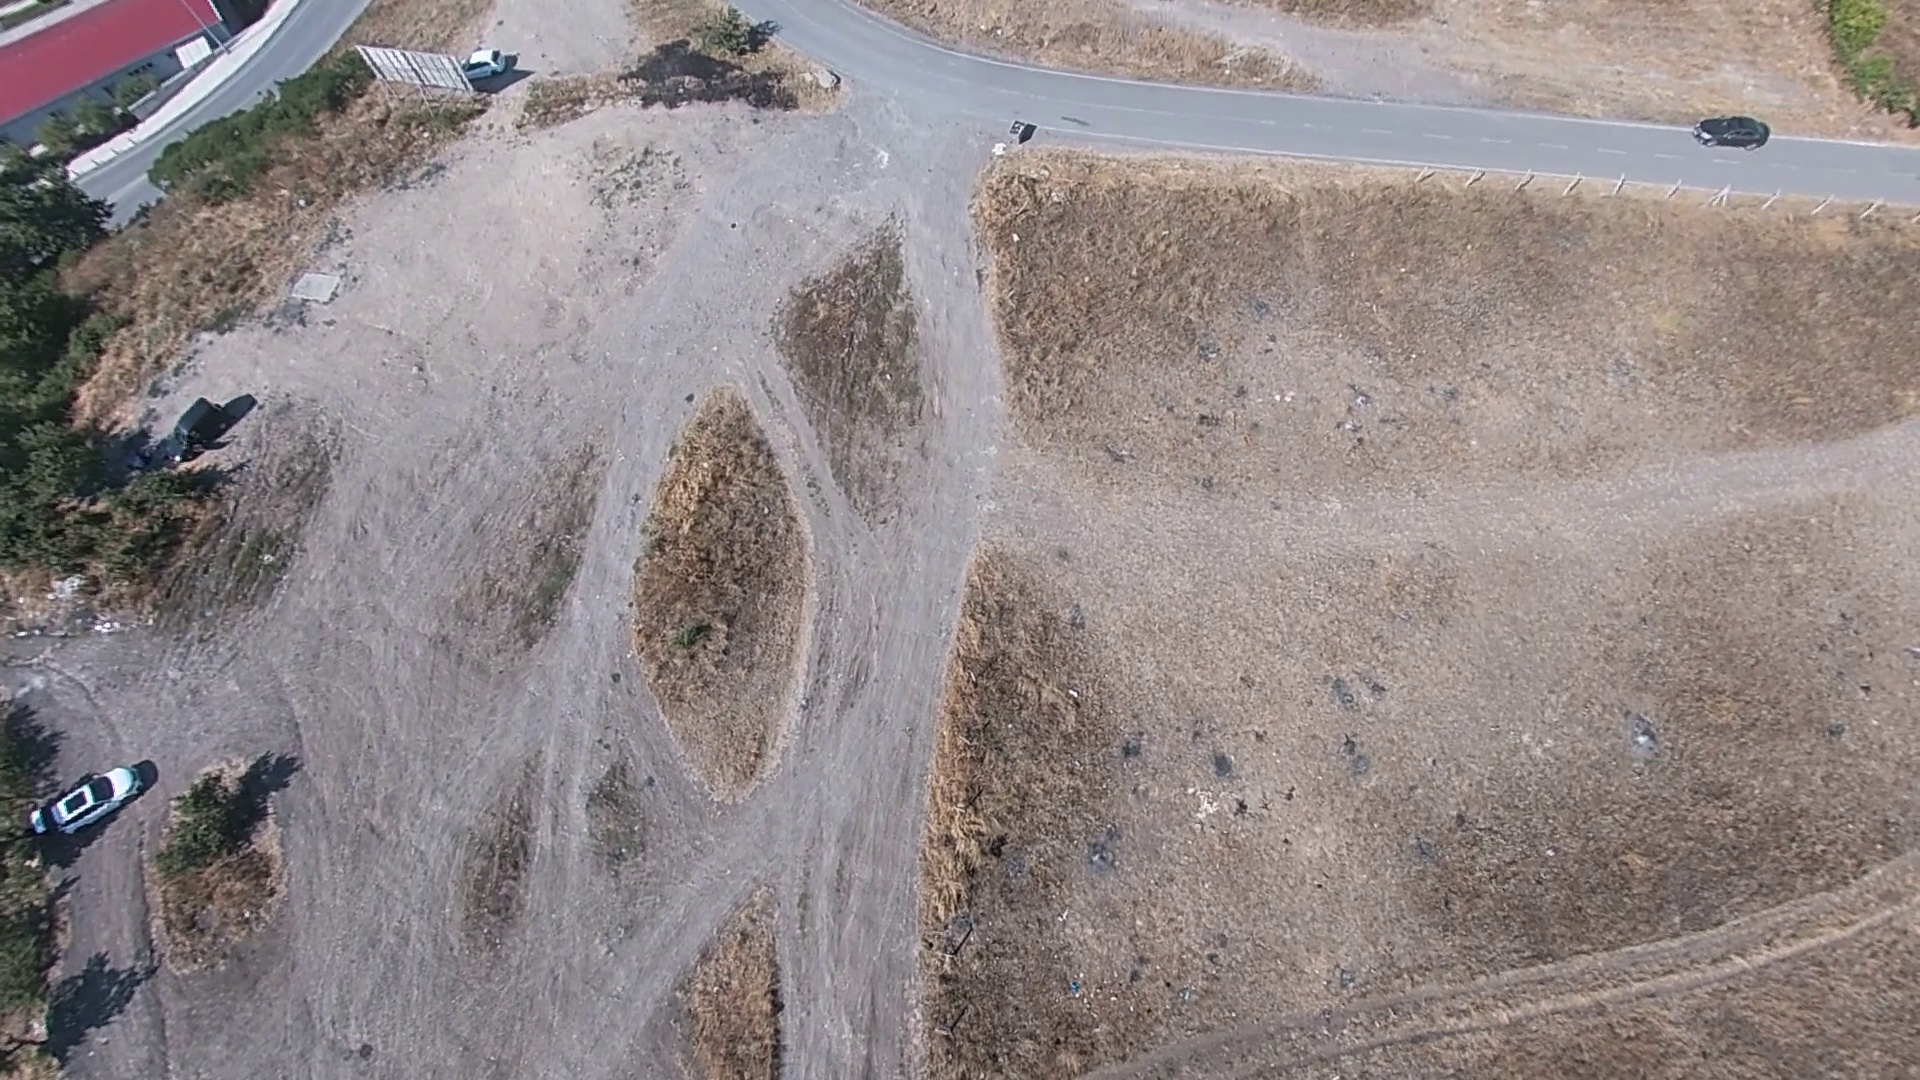arac: (32, 761, 148, 839), (166, 384, 236, 469), (1687, 112, 1776, 152), (462, 45, 520, 83)
